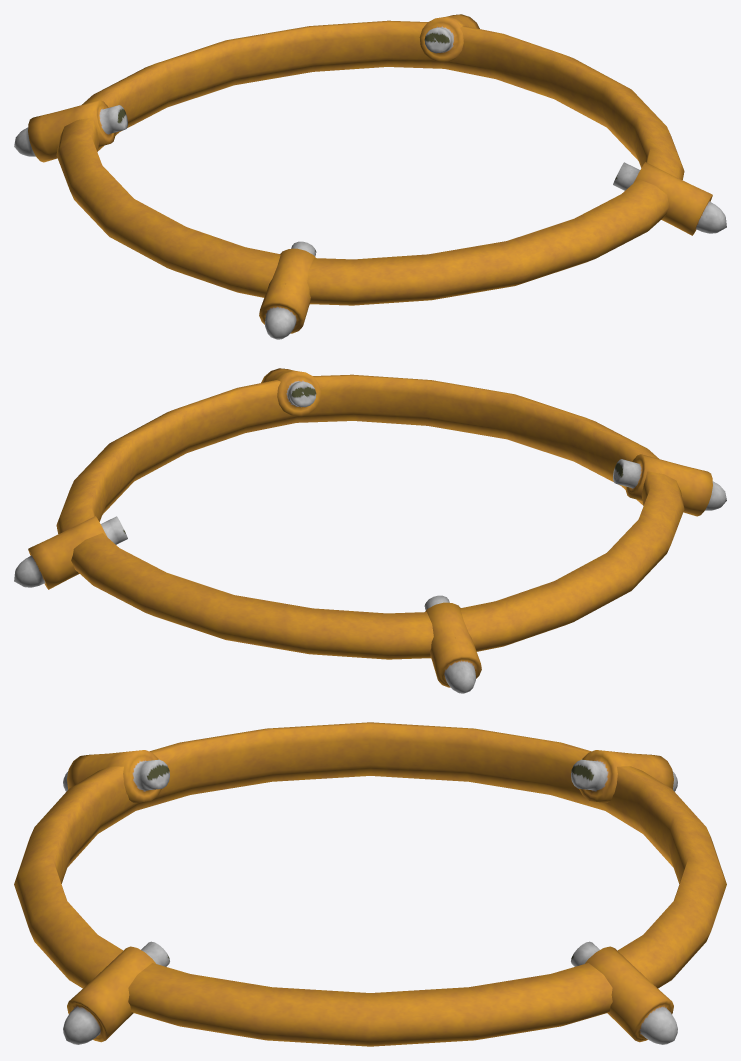
File: Cursor.fbx
3 renders of one model, top to bottom at view 1: azimuth 30°, elevation 25°; view 2: azimuth 150°, elevation 25°; view 3: azimuth 270°, elevation 25°, orthographic. The views are drawn at different scales.
Visible parts, largest first — view 1: Cursor; view 2: Cursor; view 3: Cursor.
Part boxes in pixels (<box>): Cursor: <box>14,14,726,339</box>; Cursor: <box>14,368,726,693</box>; Cursor: <box>14,722,726,1046</box>.
Bounding box in the file's own units: 112 × 12.9 × 112.
